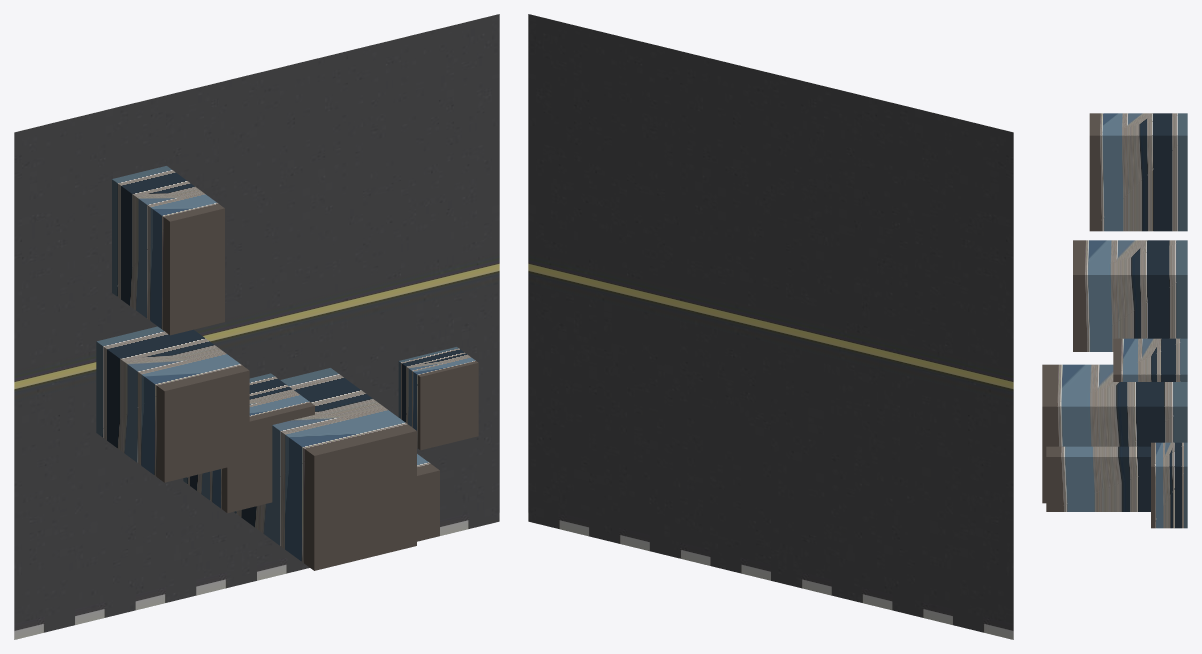
3 views of the same model, side by side, from view 1: azimuth 30°, elevation 25°; view 2: azimuth 150°, elevation 25°; view 3: azimuth 270°, elevation 25° (orthographic). The views are drawn at different scales.
Bounding box in the file's own units: 119 × 119 × 36.73.
2 materials, 2 textured.
